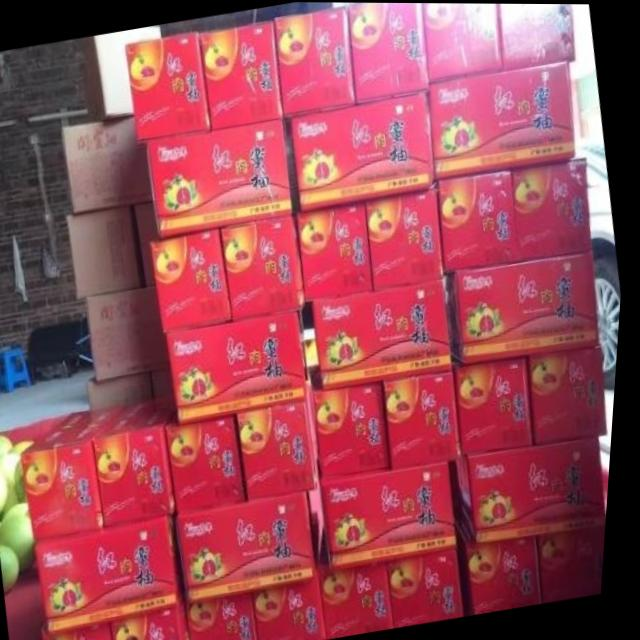box: (42, 513, 191, 633), (288, 90, 436, 209), (449, 250, 601, 365), (148, 120, 296, 236), (430, 60, 576, 177), (458, 435, 613, 539), (180, 488, 323, 600), (315, 277, 459, 385), (172, 309, 310, 420), (325, 460, 463, 570), (29, 406, 133, 537), (98, 393, 183, 525), (240, 371, 324, 498), (221, 210, 309, 318), (272, 4, 358, 113), (461, 505, 551, 609), (127, 31, 213, 138), (200, 18, 283, 127), (67, 111, 156, 212), (152, 226, 237, 331), (89, 280, 176, 379), (386, 366, 468, 468), (170, 412, 253, 512), (533, 341, 615, 442), (441, 167, 522, 269), (298, 198, 377, 300), (317, 379, 397, 479), (457, 356, 539, 453), (349, 2, 430, 99), (368, 188, 446, 287), (518, 159, 595, 256), (67, 203, 145, 298), (424, 2, 503, 81), (394, 549, 471, 625), (327, 560, 403, 634), (544, 519, 613, 598), (500, 3, 575, 67), (119, 581, 197, 640), (262, 577, 333, 640), (195, 588, 265, 640), (91, 365, 180, 405), (138, 201, 159, 285), (47, 619, 120, 640)
